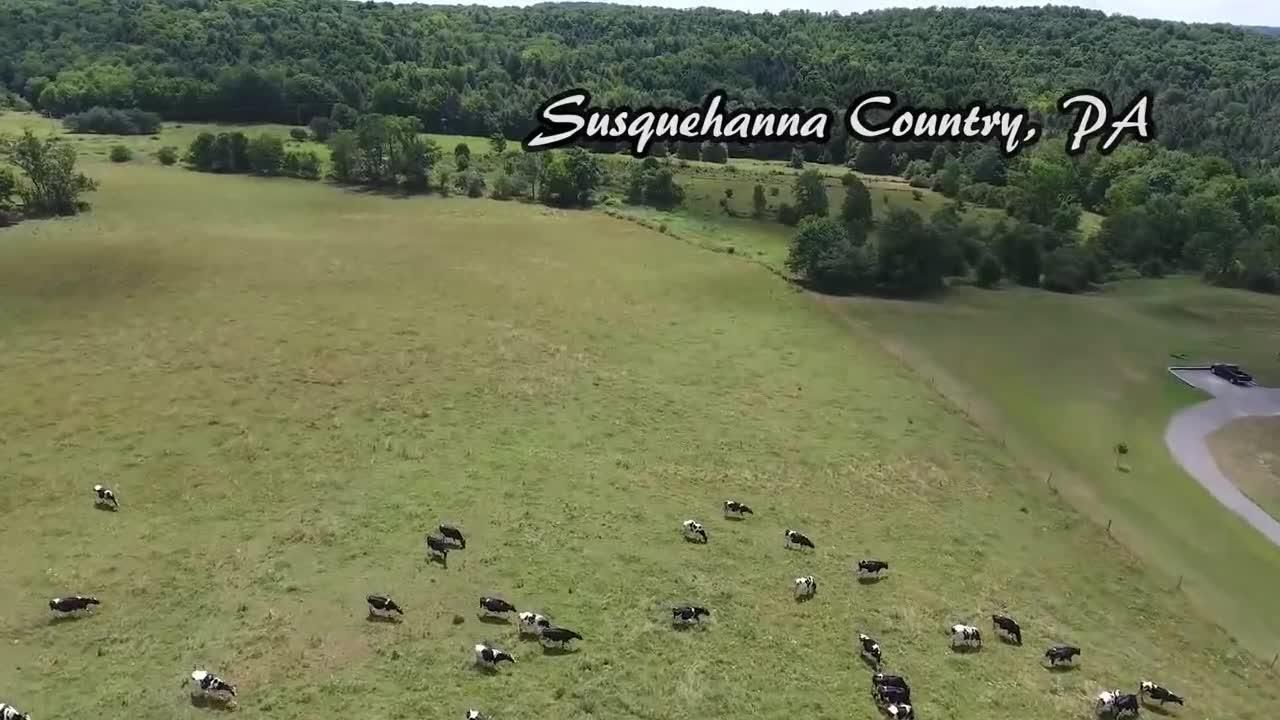cow: (188, 666, 239, 705), (1137, 677, 1187, 713), (47, 590, 103, 620), (470, 638, 518, 673), (364, 589, 407, 625), (538, 625, 587, 655), (668, 599, 713, 630), (944, 621, 982, 655), (991, 612, 1025, 650), (476, 594, 518, 624), (1043, 643, 1084, 672), (855, 631, 886, 668), (782, 526, 819, 556), (421, 533, 454, 566), (1110, 687, 1143, 720), (437, 520, 470, 552), (789, 571, 821, 604), (678, 516, 712, 546), (720, 496, 757, 523), (89, 479, 121, 509), (1094, 683, 1123, 710), (855, 558, 892, 578), (517, 611, 552, 631), (869, 671, 911, 687), (876, 687, 917, 703), (0, 702, 33, 720), (885, 704, 920, 720)
